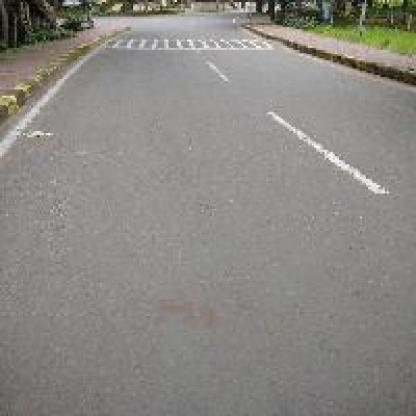Speed Bump: (96, 33, 276, 50)
